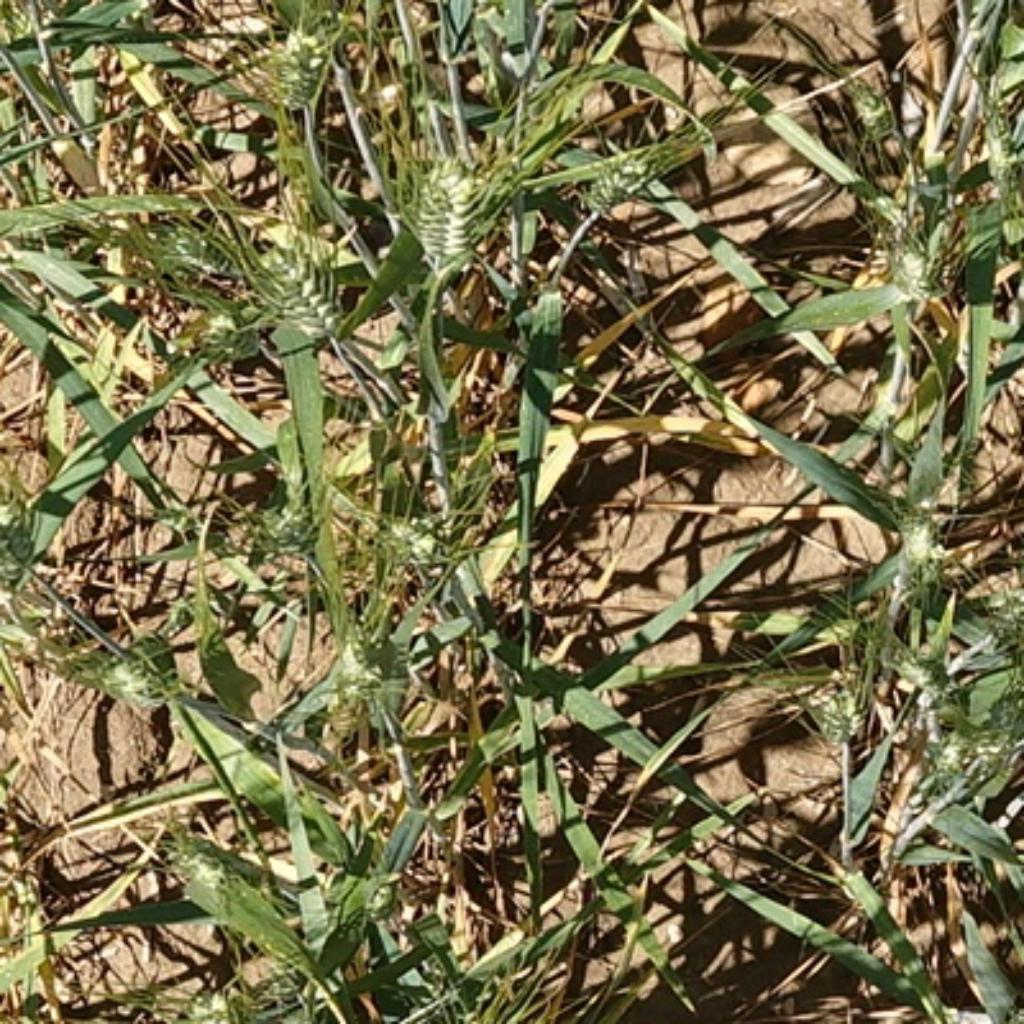0-0: (384, 122, 506, 263), (235, 204, 353, 340), (862, 227, 988, 337), (573, 115, 698, 209), (232, 12, 345, 107), (156, 814, 253, 916), (975, 501, 1024, 657), (143, 219, 243, 294), (161, 962, 279, 1024), (826, 51, 903, 143), (239, 481, 329, 549), (880, 637, 962, 709), (375, 521, 452, 591), (810, 667, 875, 746), (972, 83, 1021, 172), (935, 722, 1021, 772), (339, 625, 386, 714), (91, 655, 165, 708), (889, 503, 943, 570), (194, 310, 258, 361), (0, 513, 38, 570)
